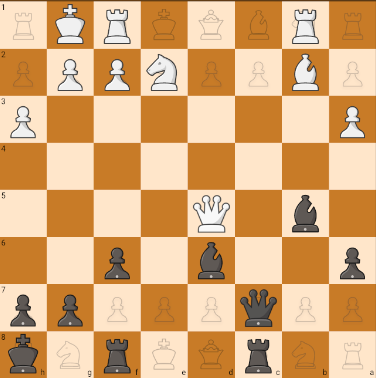bb: (285, 192, 326, 236), (191, 238, 231, 282)
bk: (2, 332, 49, 378), (237, 286, 278, 329)
bp: (3, 287, 43, 329), (51, 288, 92, 328), (99, 242, 138, 281), (335, 244, 372, 283)
br: (97, 337, 137, 376), (241, 336, 277, 375)
wb: (284, 50, 326, 91), (143, 52, 184, 93)
wk: (48, 2, 96, 48)
wp: (3, 98, 45, 140), (333, 101, 373, 141), (98, 55, 134, 94), (53, 56, 87, 94)
wq: (189, 190, 234, 234)
wr: (98, 5, 137, 47), (288, 4, 327, 45)
